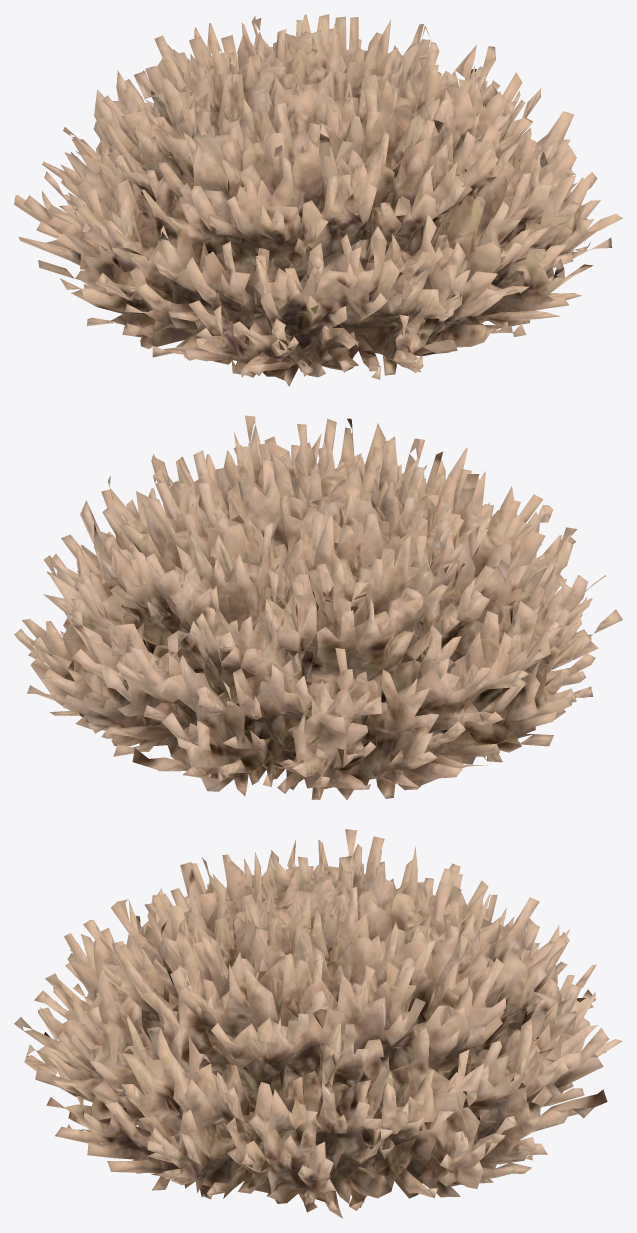
File: prop-heather-winter.glb
3 views of the same model, one above another, from view 1: azimuth 30°, elevation 25°; view 2: azimuth 150°, elevation 25°; view 3: azimuth 270°, elevation 25° (orthographic). The views are drawn at different scales.
Size of the model in its own units: 1.87 by 0.9443 by 1.87.
1 material, 1 textured.
